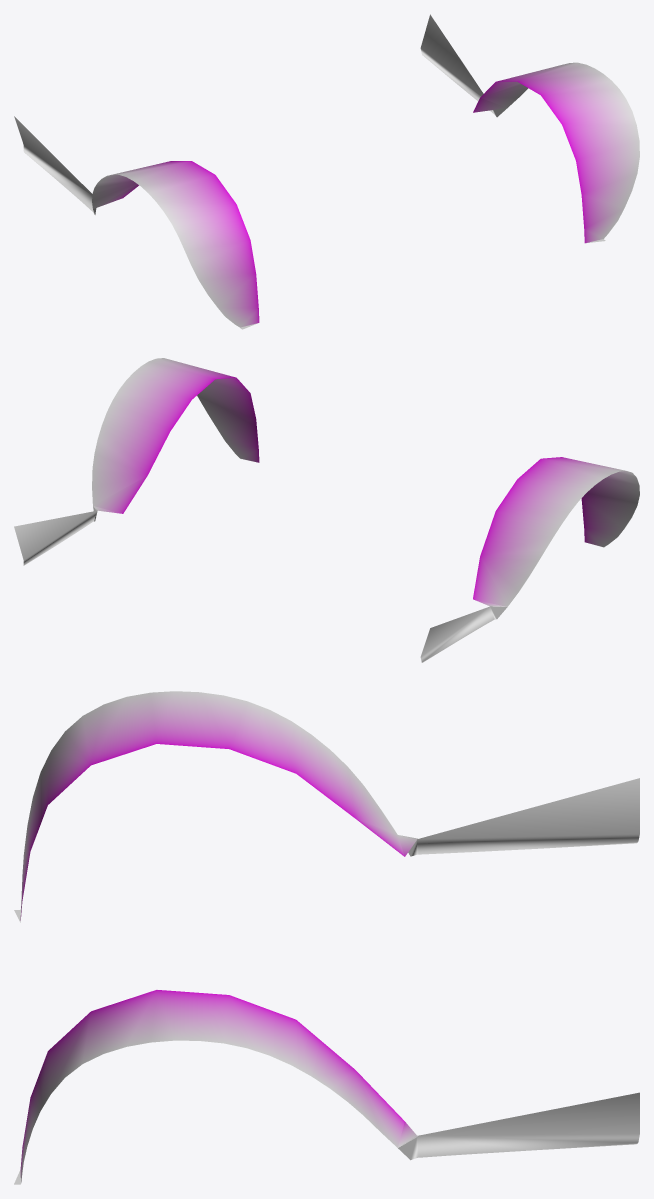
The model's file is Car_Buick_GrandNational_1987_FendersChassisR_SetA.fbx.
The picture shows the model from 3 angles, top to bottom: view 1: azimuth 30°, elevation 25°; view 2: azimuth 150°, elevation 25°; view 3: azimuth 270°, elevation 25°; orthographic projection. The views are drawn at different scales.
Parts seen in each view (by area): view 1: FendersChassisR 6; view 2: FendersChassisR 6; view 3: FendersChassisR 6.
Boxes of the visible parts, x1,y1,x2,y2 form: FendersChassisR 6: [14, 14, 639, 329]; FendersChassisR 6: [14, 358, 639, 662]; FendersChassisR 6: [14, 691, 639, 1184].
Bounding box in the file's own units: 1.84 × 0.4456 × 1.39.
